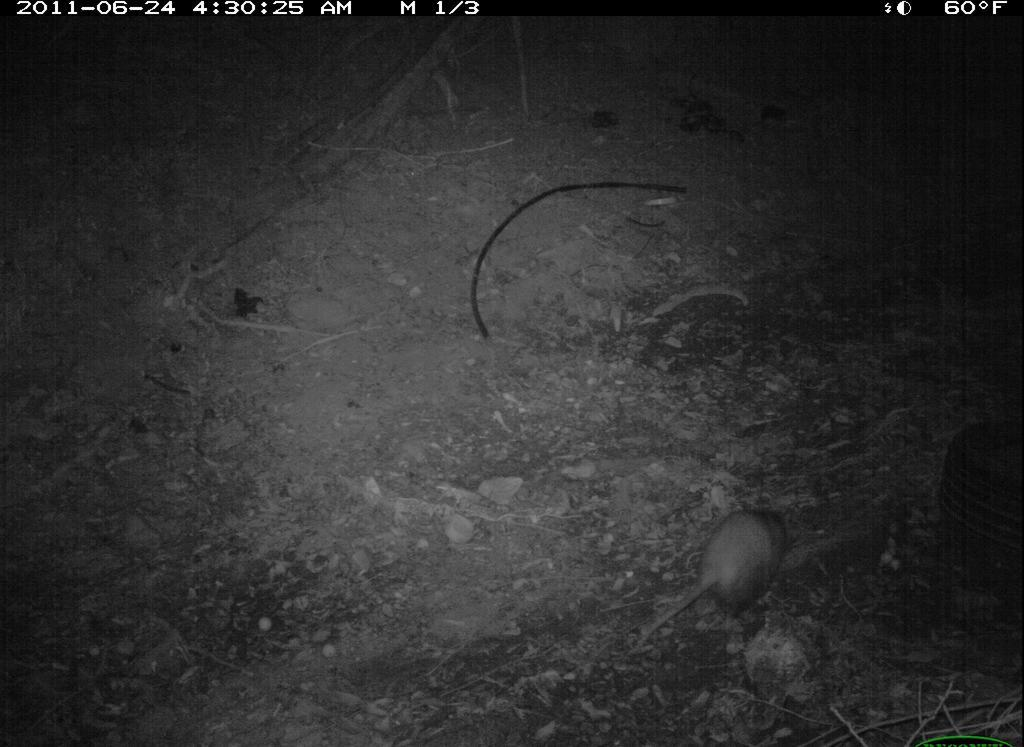opossum: (692, 492, 808, 643)
